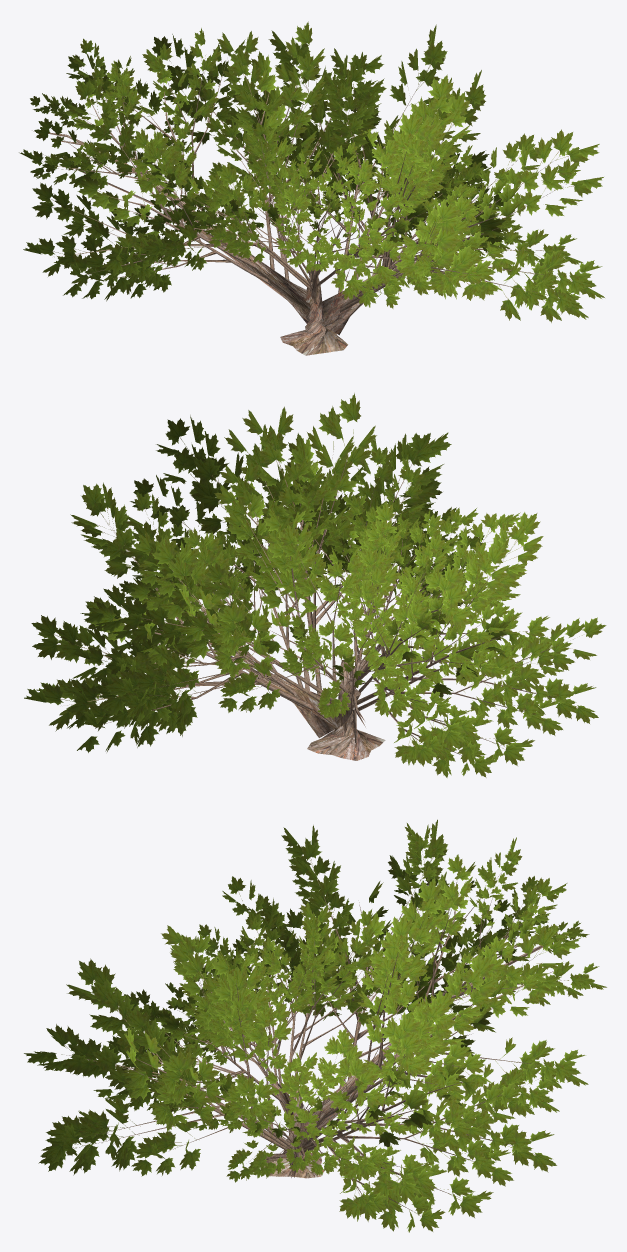
File: bush13.obj
3 views of the same model, one above another, from view 1: azimuth 30°, elevation 25°; view 2: azimuth 150°, elevation 25°; view 3: azimuth 270°, elevation 25° (orthographic). The views are drawn at different scales.
Parts seen in each view (by area): view 1: leaf maple, bark02; view 2: leaf maple, bark02; view 3: leaf maple, bark02.
Boxes of the visible parts, x1,y1,x2,y2 form: leaf maple: [19, 21, 604, 322]; bark02: [32, 58, 566, 355]; leaf maple: [24, 393, 606, 777]; bark02: [67, 444, 565, 760]; leaf maple: [24, 819, 606, 1232]; bark02: [66, 854, 570, 1213].
Bounding box in the file's own units: 270 × 145 × 280.
2 materials, 2 textured.
